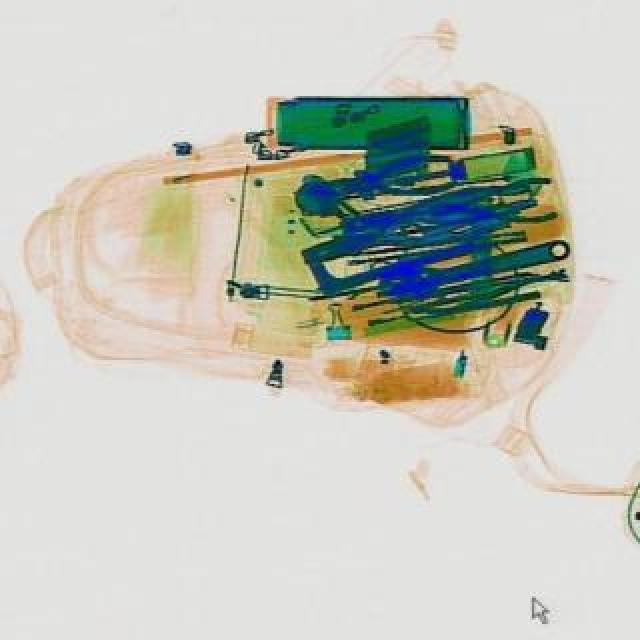scissors: (372, 228, 572, 308)
wrench: (298, 148, 456, 212), (422, 174, 554, 234)
